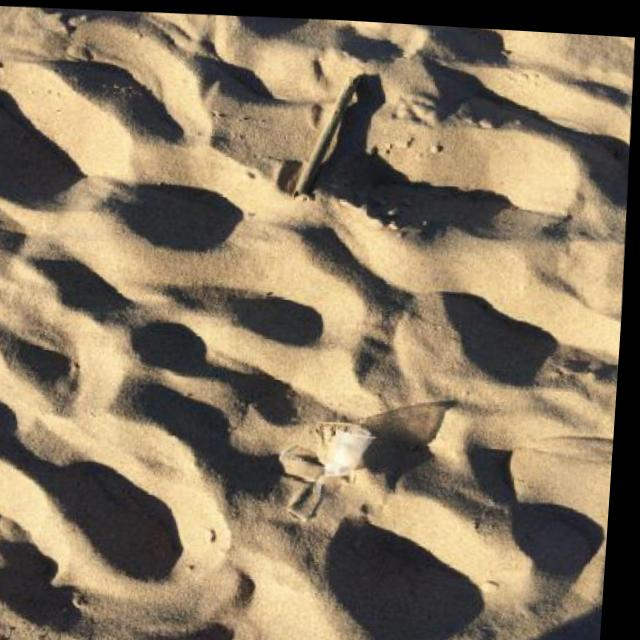plastic: (273, 422, 377, 524)
